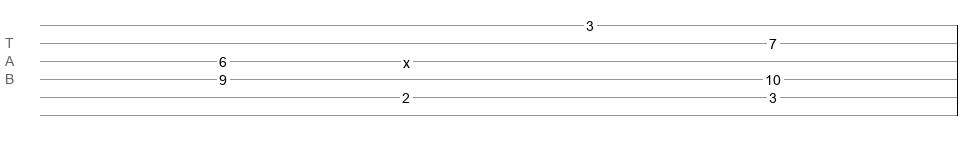10: (765, 72, 781, 82)
2: (402, 90, 410, 100)
3: (586, 18, 594, 28), (769, 90, 777, 100)
6: (219, 54, 227, 64)
7: (769, 36, 777, 46)
9: (219, 72, 227, 82)
x: (403, 55, 410, 63)
